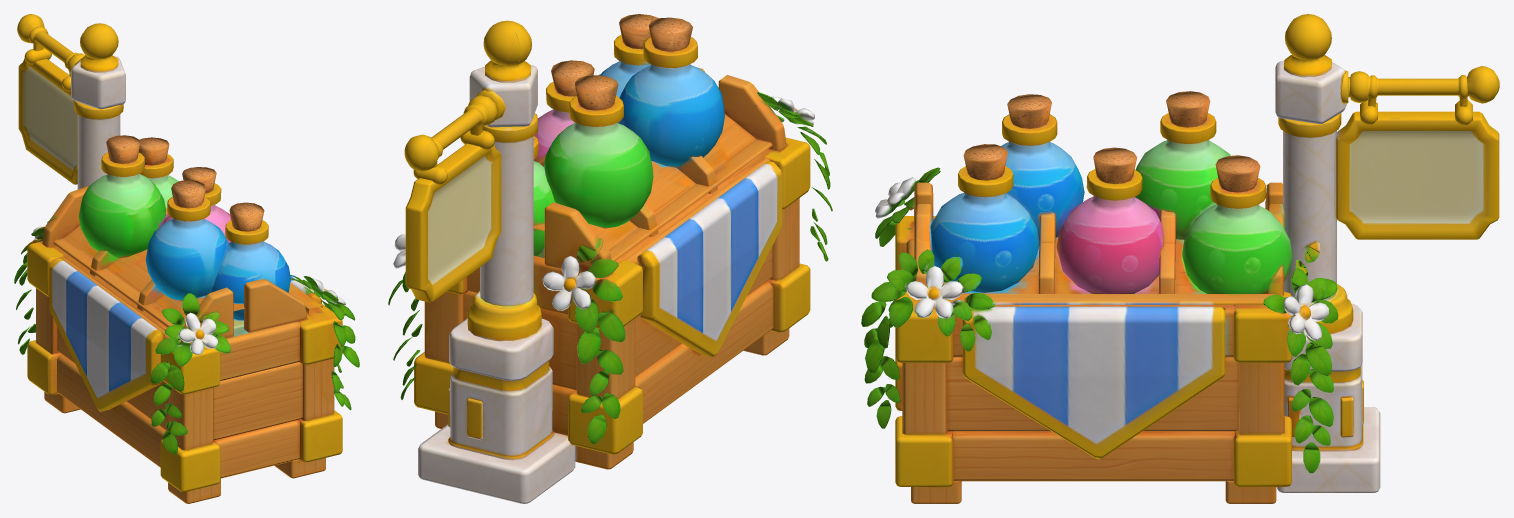
The model's file is HaloReasonHQ_PotionCrate_SM_tex4k_pbr_src.fbx.
3 views of the same model, side by side, from view 1: azimuth 30°, elevation 25°; view 2: azimuth 150°, elevation 25°; view 3: azimuth 270°, elevation 25° (orthographic). The views are drawn at different scales.
Parts seen in each view (by area): view 1: tripo_0d5d5281_1328_4e2a_bfb0_49e87d6e29ae; view 2: tripo_0d5d5281_1328_4e2a_bfb0_49e87d6e29ae; view 3: tripo_0d5d5281_1328_4e2a_bfb0_49e87d6e29ae.
Part boxes in pixels (bbox=[...]): tripo_0d5d5281_1328_4e2a_bfb0_49e87d6e29ae: bbox=[14, 14, 359, 503]; tripo_0d5d5281_1328_4e2a_bfb0_49e87d6e29ae: bbox=[388, 14, 832, 503]; tripo_0d5d5281_1328_4e2a_bfb0_49e87d6e29ae: bbox=[861, 14, 1499, 503].
Size of the model in its own units: 0.4624 by 0.7769 by 0.9995.
Materials: 1 (1 with a texture image).
